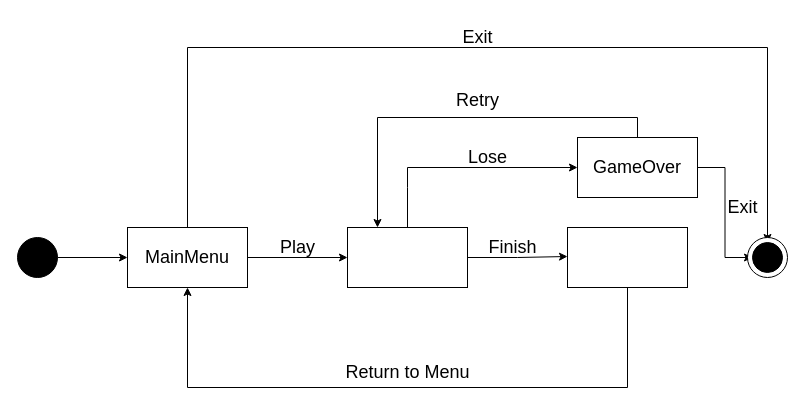
This 805x413 diagram has some shape labels left out. Each missing label, with the box of its shape:
Credits: (566, 226, 688, 288)
Game: (346, 226, 468, 288)
